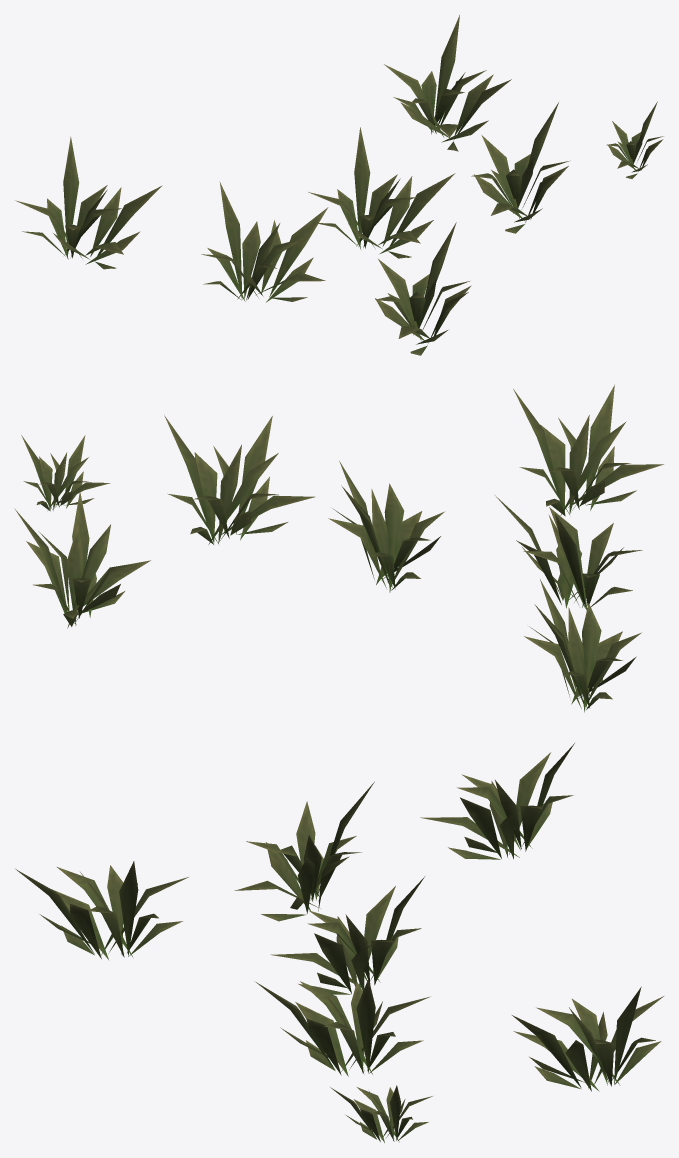
File: Area_09_23.fbx
3 views of the same model, one above another, from view 1: azimuth 30°, elevation 25°; view 2: azimuth 150°, elevation 25°; view 3: azimuth 270°, elevation 25° (orthographic). The views are drawn at different scales.
Visible parts, largest first — view 1: Area_09_23; view 2: Area_09_23; view 3: Area_09_23.
Boxes of the visible parts, left/top/right/bottom form: Area_09_23: left=15, top=15, right=663, bottom=355; Area_09_23: left=14, top=384, right=663, bottom=712; Area_09_23: left=15, top=743, right=663, bottom=1142.
Bounding box in the file's own units: 557 × 93.02 × 451.
